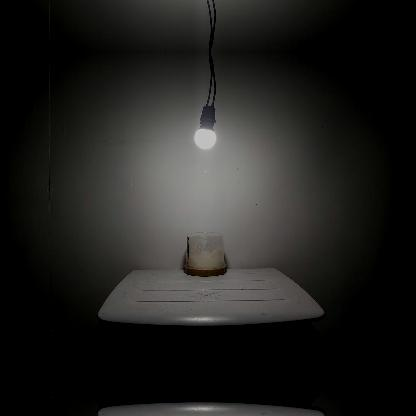Lady-s-Choice: (184, 232, 226, 276)
